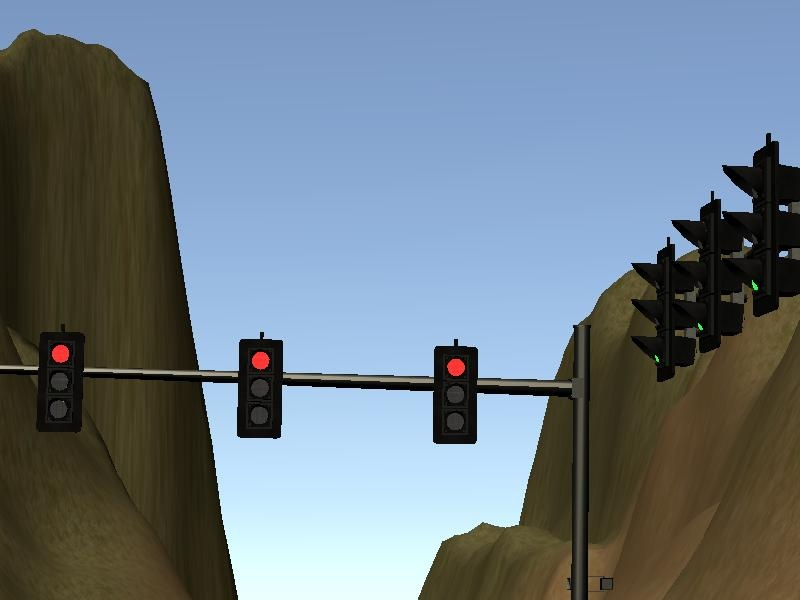red: (233, 331, 284, 442), (429, 338, 481, 446), (37, 326, 84, 436)
